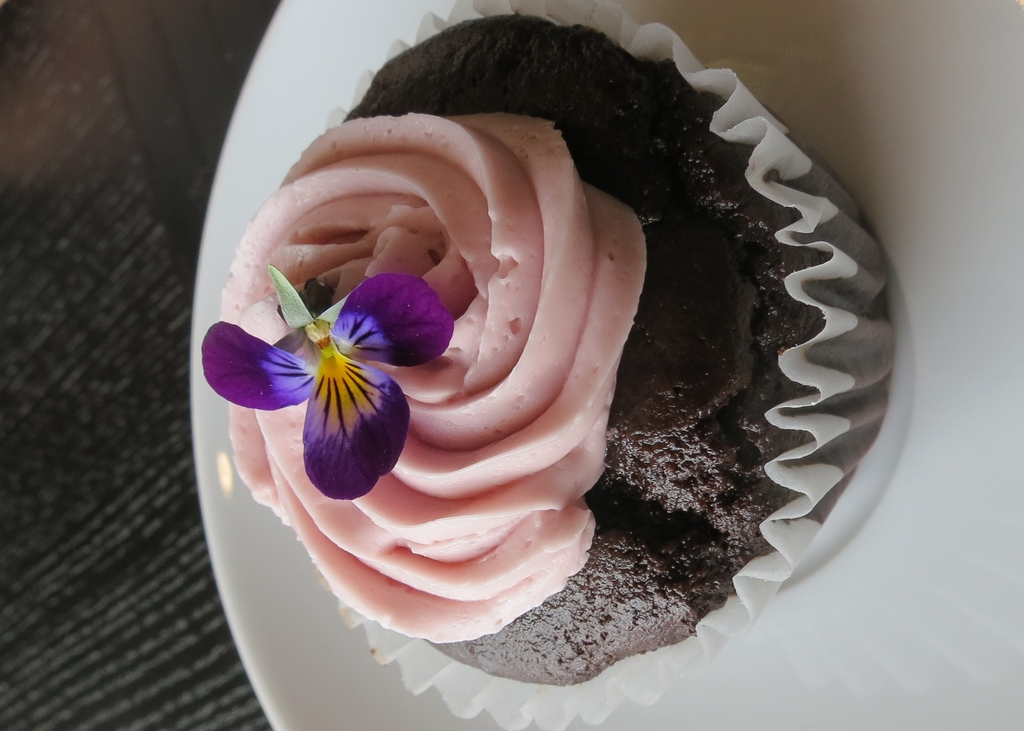cake: (220, 9, 897, 686)
